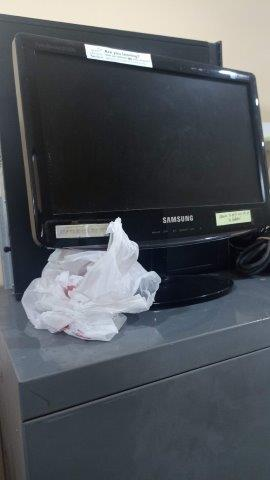plastik: (20, 216, 163, 342)
